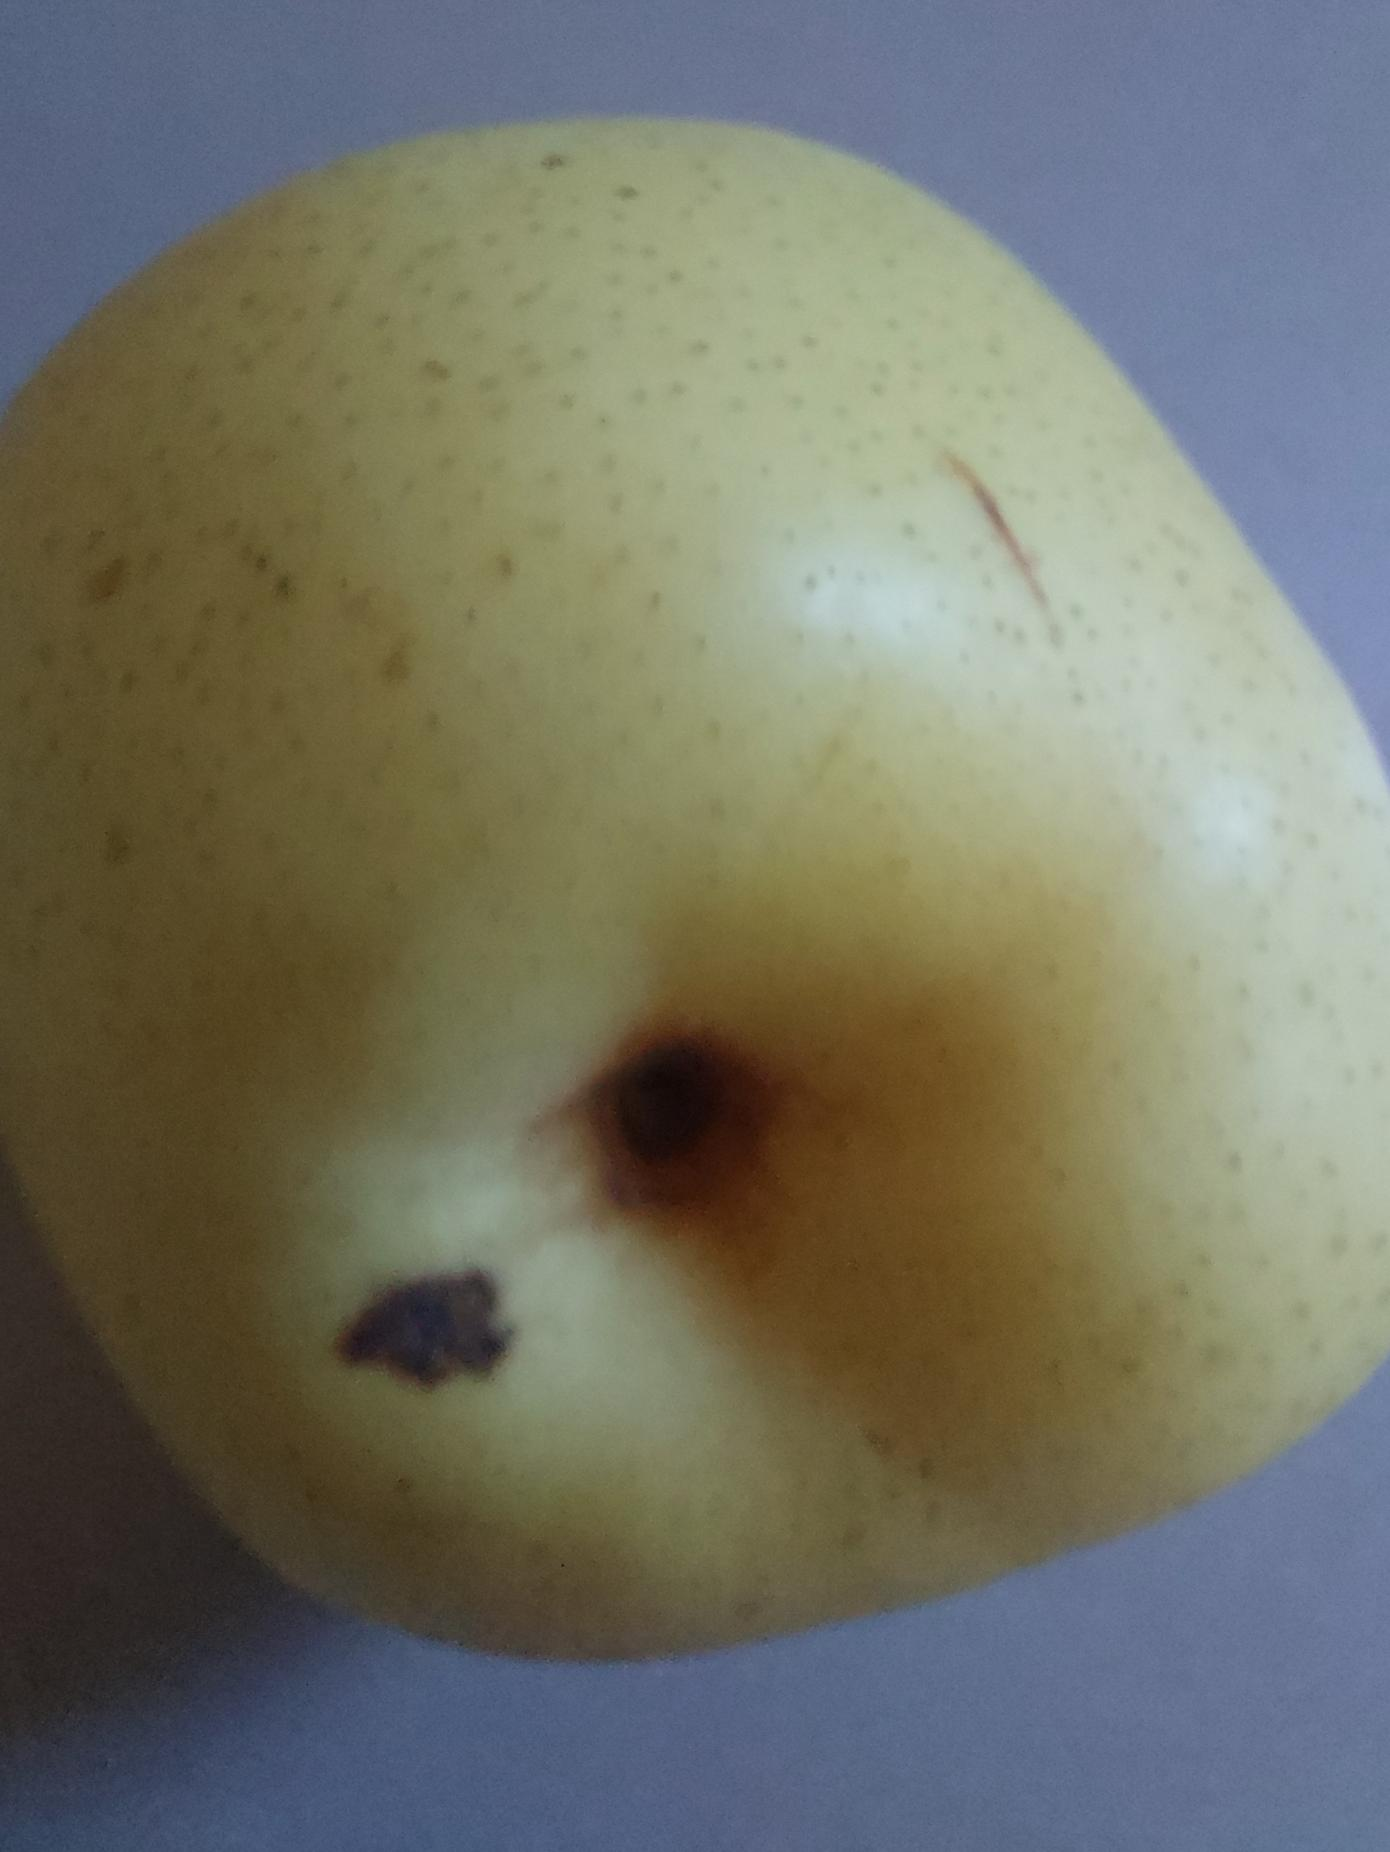Good Pear: (0, 92, 1390, 1710)
